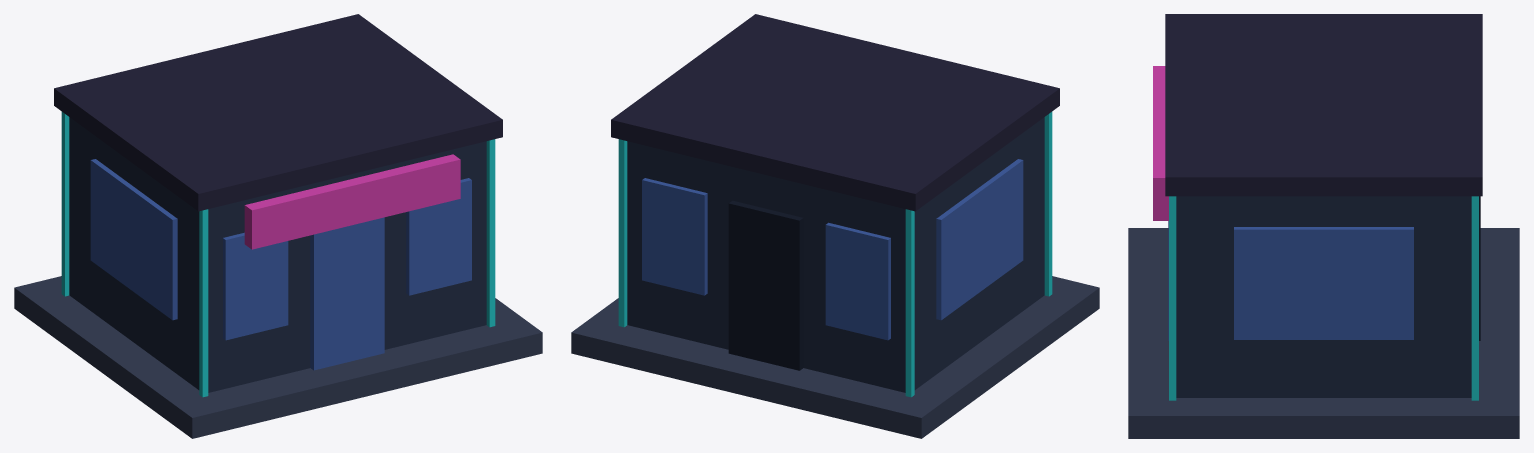
The model's file is Neon_ArcadeKiosk_Simple.glb.
3 renders of one model, left to right at view 1: azimuth 30°, elevation 25°; view 2: azimuth 150°, elevation 25°; view 3: azimuth 270°, elevation 25°, orthographic. The views are drawn at different scales.
Visible parts, largest first — view 1: Neon_ArcadeKiosk_Simple; view 2: Neon_ArcadeKiosk_Simple; view 3: Neon_ArcadeKiosk_Simple.
Boxes of the visible parts, x1,y1,x2,y2 form: Neon_ArcadeKiosk_Simple: (14, 14, 542, 438); Neon_ArcadeKiosk_Simple: (571, 14, 1099, 438); Neon_ArcadeKiosk_Simple: (1128, 14, 1519, 438).
Bounding box in the file's own units: 4.2 × 2.6 × 3.7.
